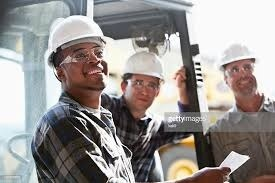helmet: (40, 14, 116, 73), (121, 47, 169, 84), (217, 41, 260, 72)
person with partial safety: (35, 11, 122, 183), (212, 41, 275, 174), (119, 49, 170, 183)
